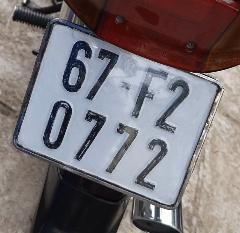0: (36, 93, 81, 155)
2: (149, 72, 201, 141), (125, 132, 177, 196)
6: (52, 34, 97, 99)
7: (95, 116, 146, 183), (66, 103, 113, 168), (79, 44, 125, 107)
F: (124, 61, 174, 125)
